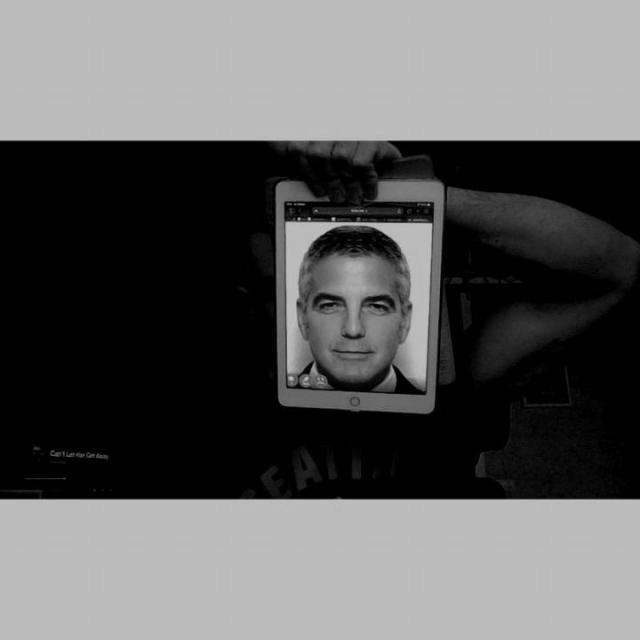fake: (270, 175, 450, 417)
